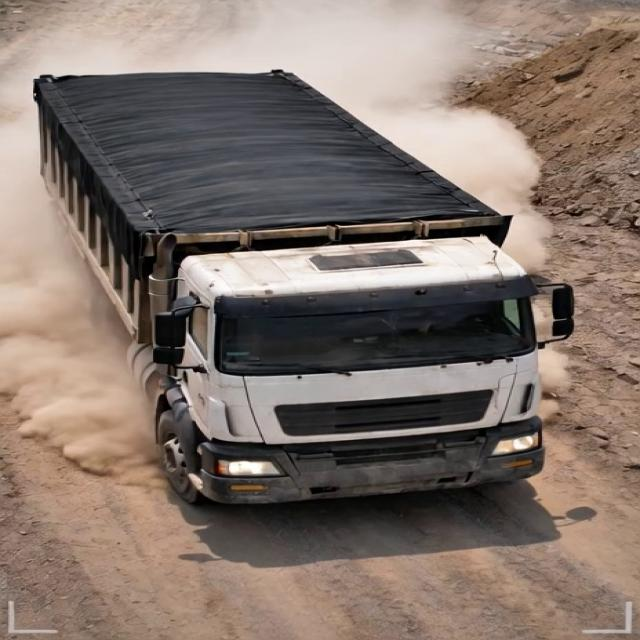Box: (12, 74, 541, 225)
Truck: (4, 38, 568, 522)
